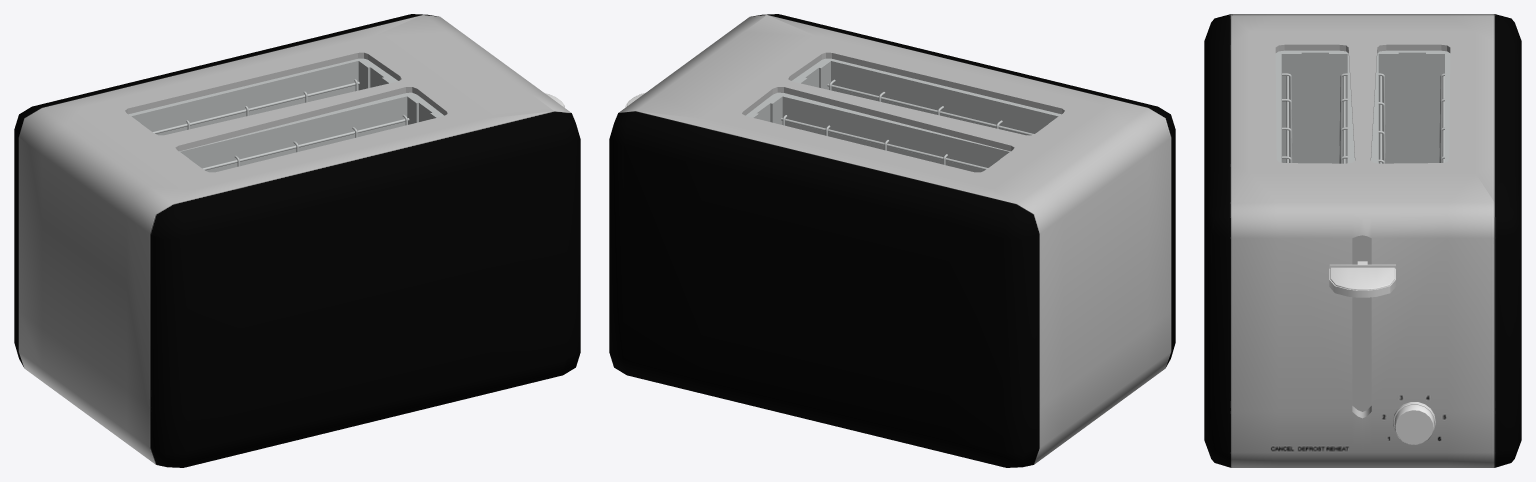
The model's file is toaster.glb.
3 views of the same model, side by side, from view 1: azimuth 30°, elevation 25°; view 2: azimuth 150°, elevation 25°; view 3: azimuth 270°, elevation 25° (orthographic).
Visible parts, largest first — view 1: Box001_Material #38_0, Plane005_Material #39_0, Plane004_Material #39_0, Cylinder001, Cylinder003; view 2: Box001_Material #38_0, Plane004_Material #39_0, Plane005_Material #39_0, Cylinder004, Cylinder002; view 3: Box001_Material #38_0, Plane005_Material #39_0, Plane004_Material #39_0, Box004, Cylinder010.
Part boxes in pixels (left/top/right/bottom): Box001_Material #38_0: left=14, top=14, right=580, bottom=467; Plane005_Material #39_0: left=179, top=92, right=444, bottom=172; Plane004_Material #39_0: left=128, top=58, right=398, bottom=135; Cylinder001: left=152, top=81, right=359, bottom=133; Cylinder003: left=202, top=118, right=409, bottom=170; Box001_Material #38_0: left=609, top=14, right=1175, bottom=467; Plane004_Material #39_0: left=745, top=92, right=1010, bottom=172; Plane005_Material #39_0: left=791, top=58, right=1061, bottom=135; Cylinder004: left=827, top=83, right=1033, bottom=135; Cylinder002: left=781, top=118, right=987, bottom=169; Box001_Material #38_0: left=1204, top=14, right=1521, bottom=467; Plane005_Material #39_0: left=1275, top=50, right=1354, bottom=163; Plane004_Material #39_0: left=1371, top=50, right=1450, bottom=163; Box004: left=1329, top=261, right=1395, bottom=297; Cylinder010: left=1394, top=405, right=1434, bottom=444.
Size of the model in its own units: 5.11 by 2.7 by 2.95.
Materials: 2 (2 with a texture image).
